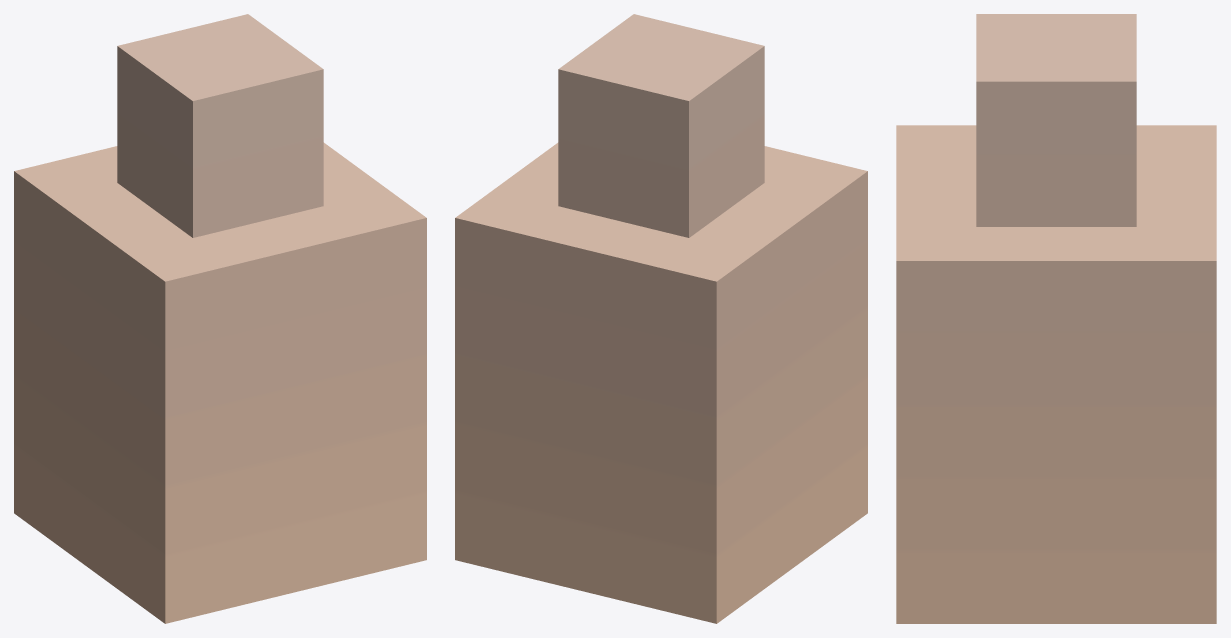
The model's file is Hip054.fbx.
3 renders of one model, left to right at view 1: azimuth 30°, elevation 25°; view 2: azimuth 150°, elevation 25°; view 3: azimuth 270°, elevation 25°, orthographic. The views are drawn at different scales.
Visible parts, largest first — view 1: Hip054; view 2: Hip054; view 3: Hip054.
Part boxes in pixels (x1=…): Hip054: x1=14, y1=14, x2=426, y2=623; Hip054: x1=455, y1=14, x2=867, y2=623; Hip054: x1=896, y1=14, x2=1216, y2=623.
Size of the model in its own units: 4 by 7 by 4.
